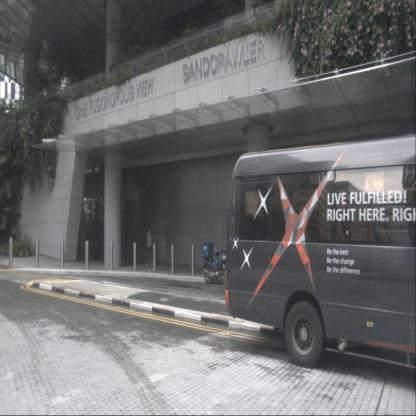human-pedestrian-adult: (146, 224, 154, 268)
vehicle-bus-rigid: (225, 136, 416, 366)
vehicle-motorcycle: (202, 241, 233, 284)
